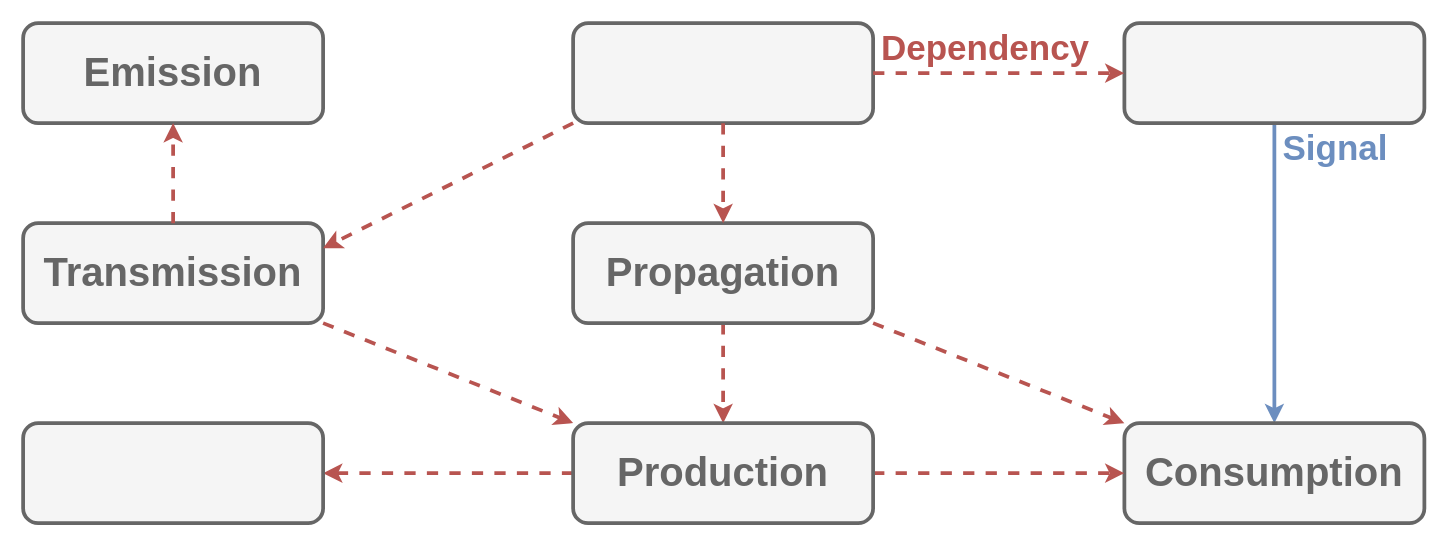
Some shapes in this 1448 by 546 pixel diagram are drawn without their labels. The centre of each missing label's shape, as x and y in pixels:
Cancellation: pixel 172 472
Extension: pixel 722 72
Generation: pixel 1274 72
